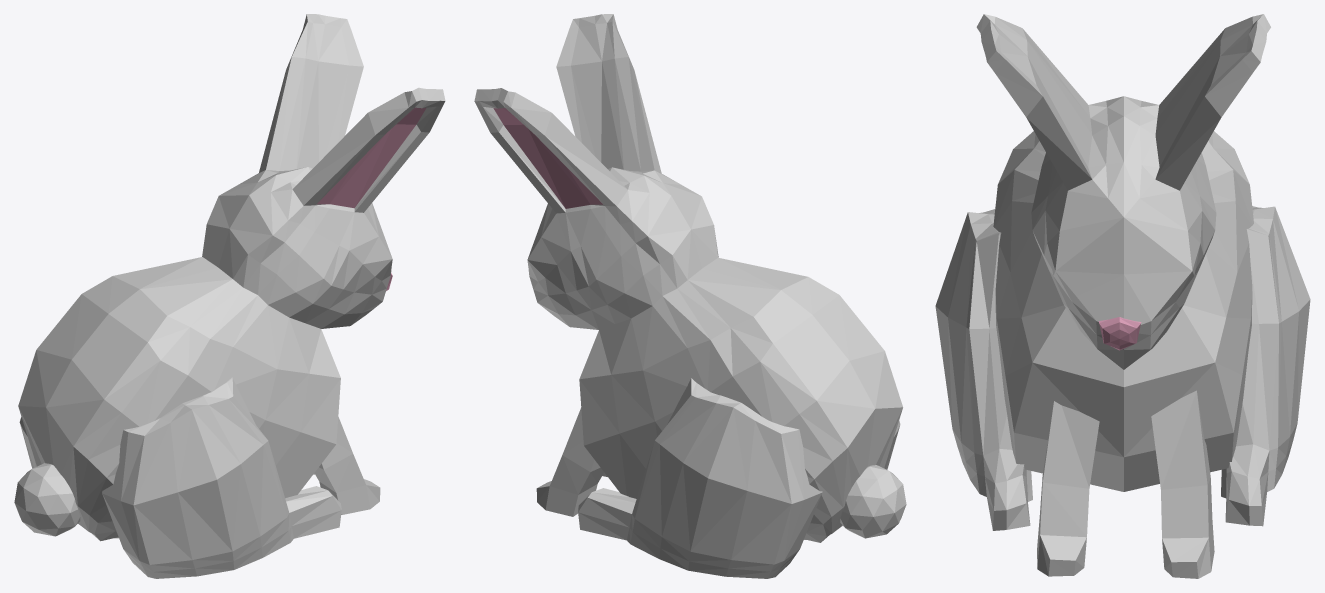
Rendered from rabbit-lowpoly.dae.
3 renders of one model, left to right at view 1: azimuth 30°, elevation 25°; view 2: azimuth 150°, elevation 25°; view 3: azimuth 270°, elevation 25°, orthographic. The views are drawn at different scales.
Parts seen in each view (by area): view 1: Cube, Cube_001, Icosphere, Cube_002; view 2: Cube, Cube_001, Icosphere, Cube_002; view 3: Cube, Cube_001, Cube_002, Sphere.
Part boxes in pixels (x1,y1,x2,y2): Cube: [18, 14, 445, 541]; Cube_001: [19, 377, 341, 578]; Icosphere: [14, 463, 80, 536]; Cube_002: [313, 417, 380, 514]; Cube: [474, 14, 902, 542]; Cube_001: [578, 378, 900, 578]; Icosphere: [840, 465, 906, 538]; Cube_002: [536, 407, 607, 516]; Cube: [976, 14, 1270, 491]; Cube_001: [935, 206, 1310, 530]; Cube_002: [1037, 390, 1214, 578]; Sphere: [1098, 317, 1141, 350].
Bounding box in the file's own units: 7.71 × 5.02 × 8.51.
